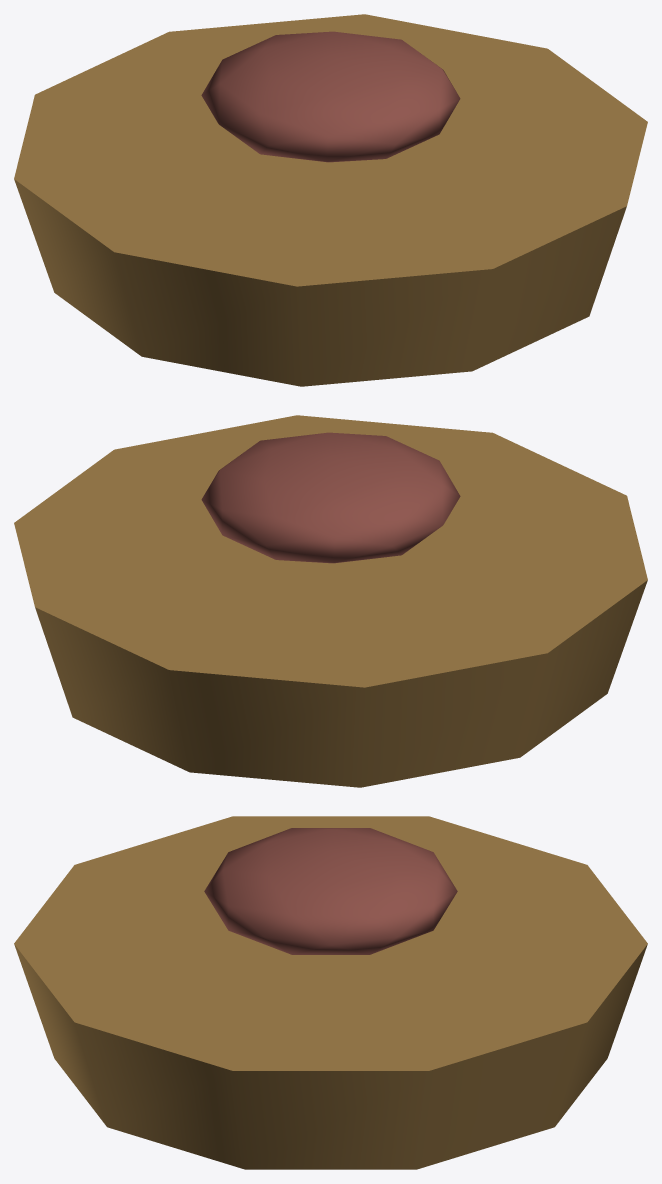
Rendered from keepsake.glb.
The picture shows the model from 3 angles, top to bottom: view 1: azimuth 30°, elevation 25°; view 2: azimuth 150°, elevation 25°; view 3: azimuth 270°, elevation 25°; orthographic projection. The views are drawn at different scales.
Visible parts, largest first — view 1: keepsake; view 2: keepsake; view 3: keepsake.
Boxes of the visible parts, left/top/right/bottom form: keepsake: left=14, top=14, right=647, bottom=386; keepsake: left=14, top=415, right=647, bottom=787; keepsake: left=14, top=816, right=647, bottom=1169.
Bounding box in the file's own units: 1.05 × 0.397 × 1.1.
